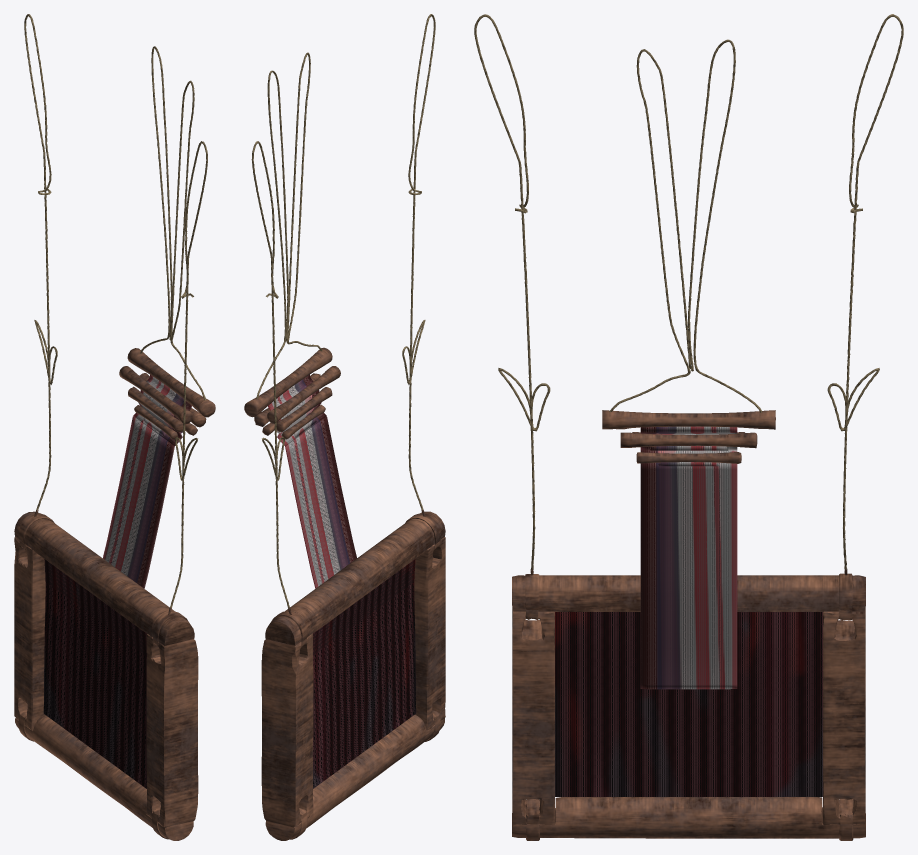
The model's file is Métier à tisser.fbx.
3 renders of one model, left to right at view 1: azimuth 30°, elevation 25°; view 2: azimuth 150°, elevation 25°; view 3: azimuth 270°, elevation 25°, orthographic. The views are drawn at different scales.
Parts seen in each view (by area): view 1: Retopo_Plane, files, Retopo_Cylinder.002, Retopo_tresse1, Retopo_Cylinder.003; view 2: Retopo_Plane, files, Retopo_Cylinder.002, Retopo_tresse1, Retopo_Cylinder.003; view 3: files, Retopo_Plane, Retopo_Cylinder.002, Retopo_tresse1, Retopo_Cylinder.003.
Boxes of the visible parts, x1,y1,x2,y2 form: Retopo_Plane: (14, 510, 198, 840); files: (43, 559, 147, 788); Retopo_Cylinder.002: (103, 375, 191, 588); Retopo_tresse1: (24, 14, 207, 607); Retopo_Cylinder.003: (119, 348, 215, 439); Retopo_Plane: (261, 510, 445, 840); files: (313, 559, 416, 788); Retopo_Cylinder.002: (268, 374, 356, 588); Retopo_tresse1: (251, 14, 435, 607); Retopo_Cylinder.003: (244, 347, 340, 439); files: (555, 612, 822, 796); Retopo_Plane: (512, 569, 865, 840); Retopo_Cylinder.002: (640, 426, 737, 689); Retopo_tresse1: (474, 14, 903, 569); Retopo_Cylinder.003: (602, 410, 775, 463).
Bounding box in the file's own units: 116 × 870 × 404.
Materials: 1 (1 with a texture image).
